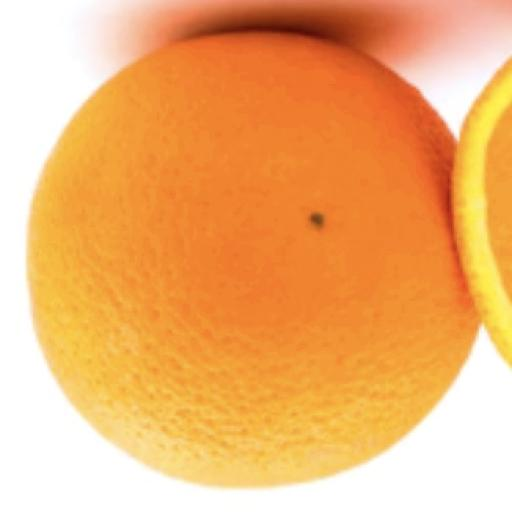orange: (29, 32, 479, 486), (454, 60, 511, 365)
